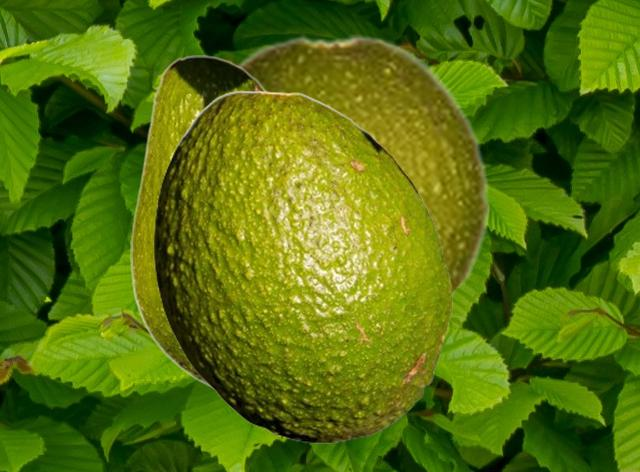avocado: (153, 90, 451, 442), (234, 34, 492, 303), (130, 55, 268, 391)
